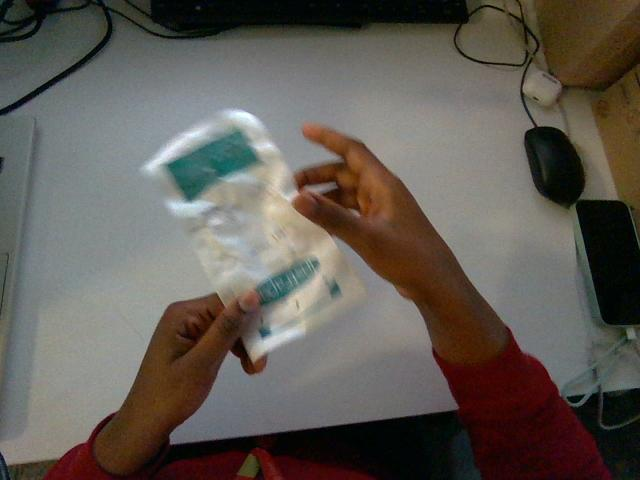gallipot: (142, 110, 363, 359)
